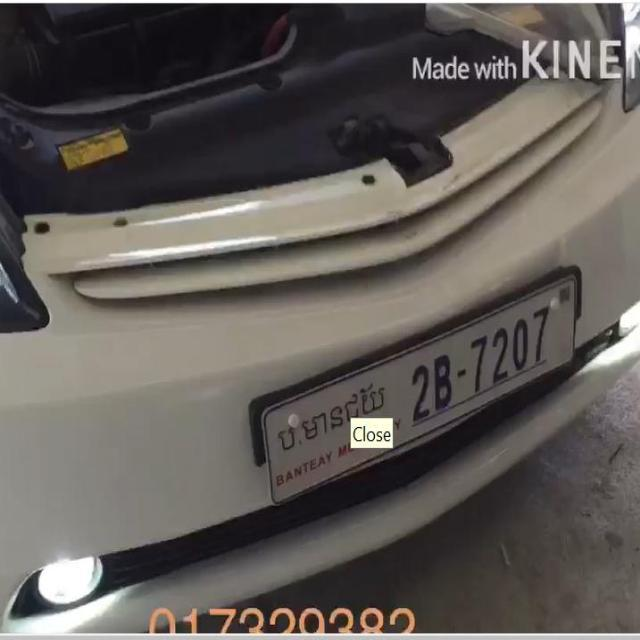Banteay_Meanchey: (277, 383, 386, 452)
